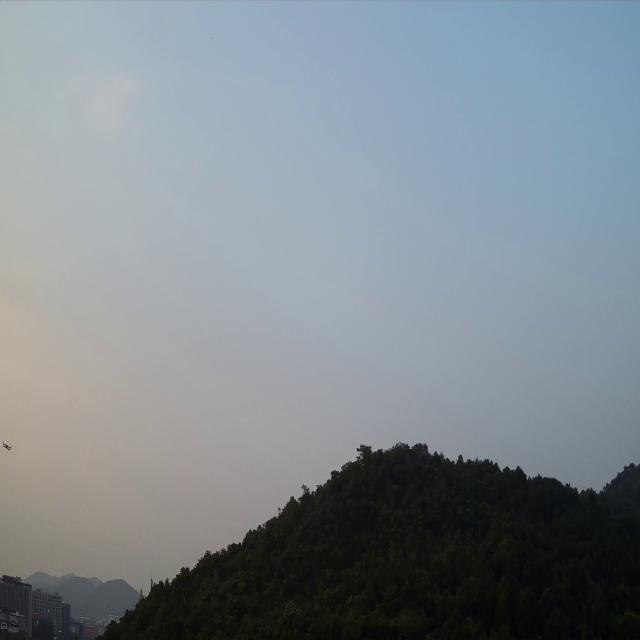UAV: (1, 440, 13, 452)
